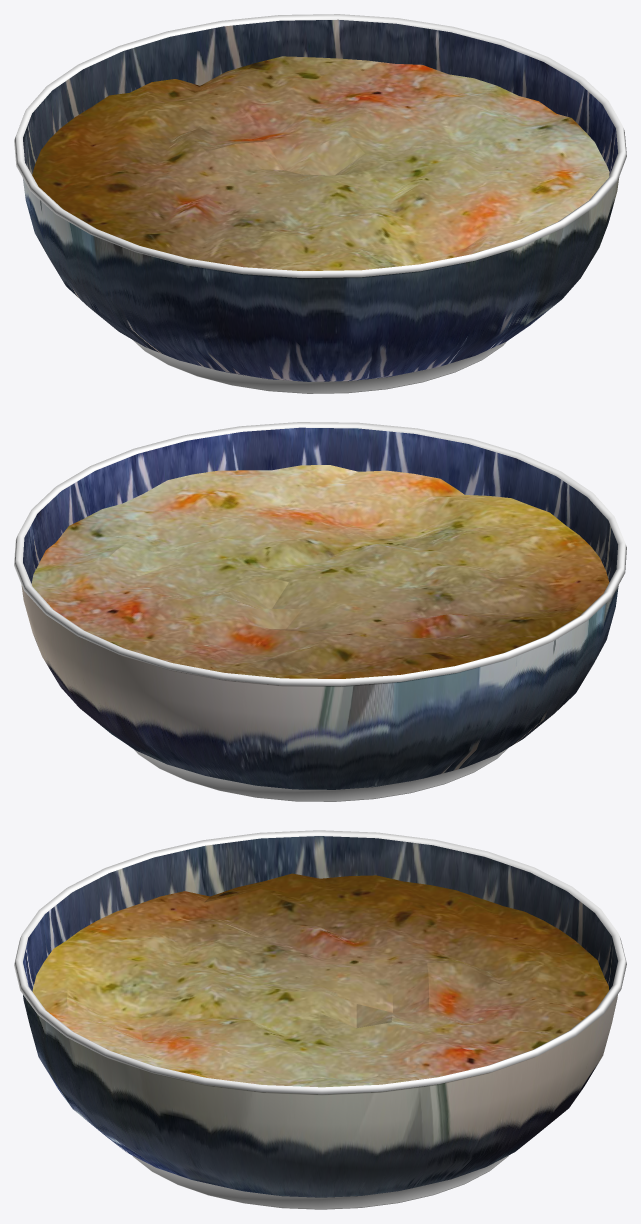
File: sopaSemola.gltf
3 views of the same model, one above another, from view 1: azimuth 30°, elevation 25°; view 2: azimuth 150°, elevation 25°; view 3: azimuth 270°, elevation 25° (orthographic).
Parts seen in each view (by area): view 1: Plano, Plato Granadino; view 2: Plano, Plato Granadino; view 3: Plano, Plato Granadino.
Boxes of the visible parts, x1,y1,x2,y2 form: Plano: (32, 56, 609, 270); Plato Granadino: (14, 14, 626, 393); Plano: (31, 465, 609, 678); Plato Granadino: (14, 422, 626, 801); Plano: (32, 873, 609, 1087); Plato Granadino: (14, 830, 626, 1209).
Size of the model in its own units: 8.4 by 2.5 by 8.4.
Materials: 3 (2 with a texture image).
